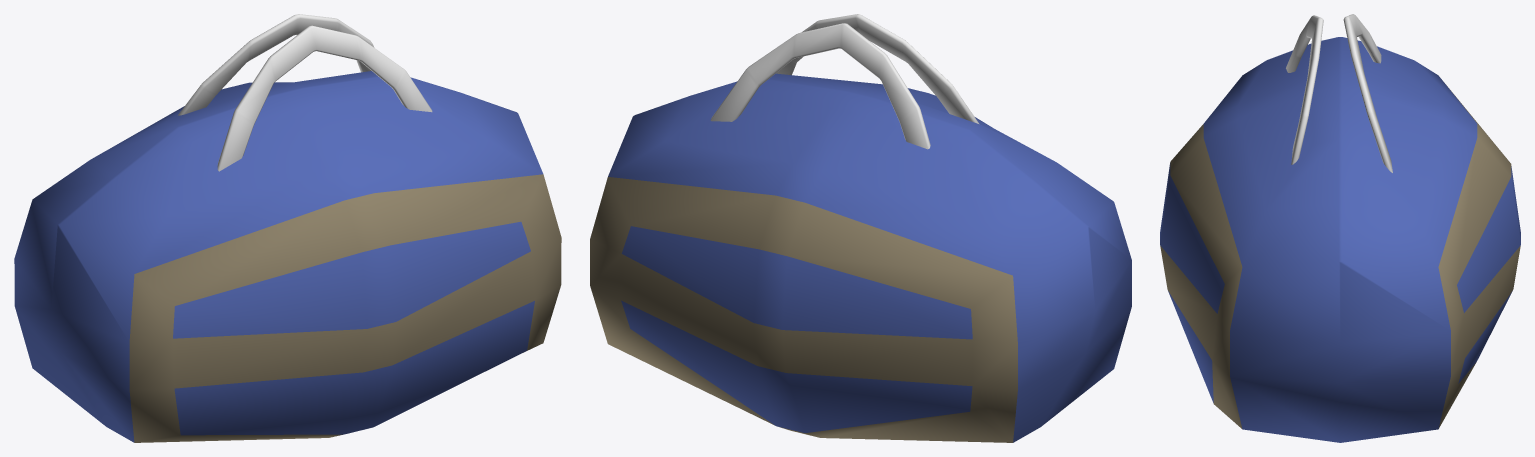
Rendered from Bag.fbx.
3 renders of one model, left to right at view 1: azimuth 30°, elevation 25°; view 2: azimuth 150°, elevation 25°; view 3: azimuth 270°, elevation 25°, orthographic. The views are drawn at different scales.
Visible parts, largest first — view 1: Bag; view 2: Bag; view 3: Bag.
Part boxes in pixels (bbox=[...]): Bag: bbox=[14, 14, 561, 442]; Bag: bbox=[590, 14, 1131, 442]; Bag: bbox=[1160, 14, 1520, 442].
Bounding box in the file's own units: 183 × 138 × 126.
